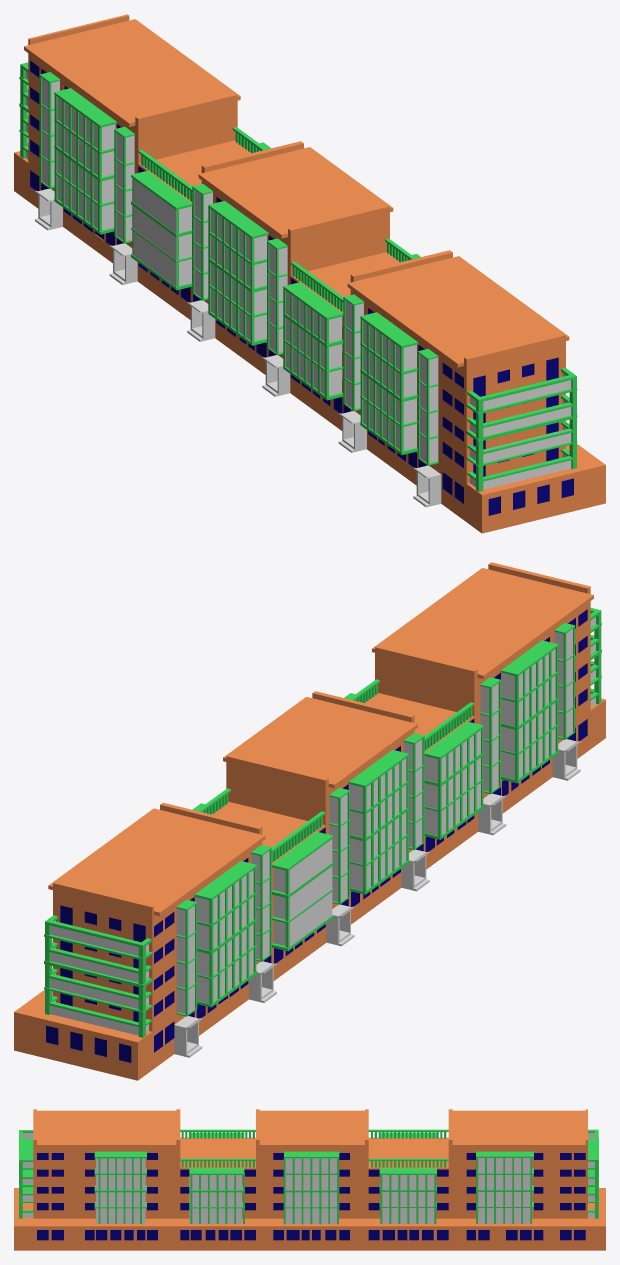
The model's file is BigPinkBild.fbx.
3 views of the same model, one above another, from view 1: azimuth 30°, elevation 25°; view 2: azimuth 150°, elevation 25°; view 3: azimuth 270°, elevation 25° (orthographic). The views are drawn at different scales.
Parts seen in each view (by area): view 1: Cube.006, Cube.004, Плоскость.027, Плоскость.020, Плоскость.009, Плоскость.011, Плоскость.026, Плоскость.014, Плоскость.004, Плоскость.015, Плоскость.005, Плоскость.007 (+12 smaller); view 2: Cube.006, Cube.004, Плоскость.027, Плоскость.020, Плоскость.009, Плоскость.011, Плоскость.026, Плоскость.014, Плоскость.022, Плоскость.007, Плоскость.006, Плоскость.004 (+12 smaller); view 3: Cube.006, Cube.004, Плоскость.016, Плоскость.013, Плоскость.012, Плоскость.014, Плоскость.024, Плоскость.025.
Part boxes in pixels (left/top/right/bottom): Cube.006: left=14, top=14, right=605, bottom=533; Cube.004: left=19, top=62, right=577, bottom=491; Плоскость.027: left=133, top=179, right=191, bottom=286; Плоскость.020: left=57, top=97, right=115, bottom=230; Плоскость.009: left=211, top=209, right=267, bottom=341; Плоскость.011: left=363, top=321, right=416, bottom=450; Плоскость.026: left=286, top=290, right=342, bottom=395; Плоскость.014: left=138, top=127, right=415, bottom=311; Плоскость.004: left=420, top=354, right=438, bottom=462; Плоскость.015: left=116, top=132, right=134, bottom=240; Плоскость.005: left=269, top=244, right=287, bottom=352; Плоскость.007: left=345, top=300, right=363, bottom=408; Cube.006: left=14, top=562, right=605, bottom=1080; Cube.004: left=44, top=608, right=601, bottom=1037; Плоскость.027: left=273, top=839, right=332, bottom=946; Плоскость.020: left=195, top=870, right=253, bottom=1003; Плоскость.009: left=349, top=758, right=406, bottom=890; Плоскость.011: left=501, top=649, right=555, bottom=779; Плоскость.026: left=424, top=730, right=480, bottom=835; Плоскость.014: left=197, top=679, right=474, bottom=862; Плоскость.022: left=176, top=905, right=194, bottom=1013; Плоскость.007: left=480, top=683, right=498, bottom=791; Плоскость.006: left=329, top=793, right=347, bottom=902; Плоскость.004: left=554, top=629, right=572, bottom=737; Cube.006: left=14, top=1109, right=605, bottom=1250; Cube.004: left=19, top=1129, right=598, bottom=1224; Плоскость.016: left=478, top=1156, right=532, bottom=1223; Плоскость.013: left=285, top=1158, right=336, bottom=1223; Плоскость.012: left=96, top=1158, right=145, bottom=1223; Плоскость.014: left=180, top=1129, right=448, bottom=1167; Плоскость.024: left=382, top=1175, right=434, bottom=1223; Плоскость.025: left=189, top=1175, right=241, bottom=1223.
Bounding box in the file's own units: 2271 × 2516 × 13102.
